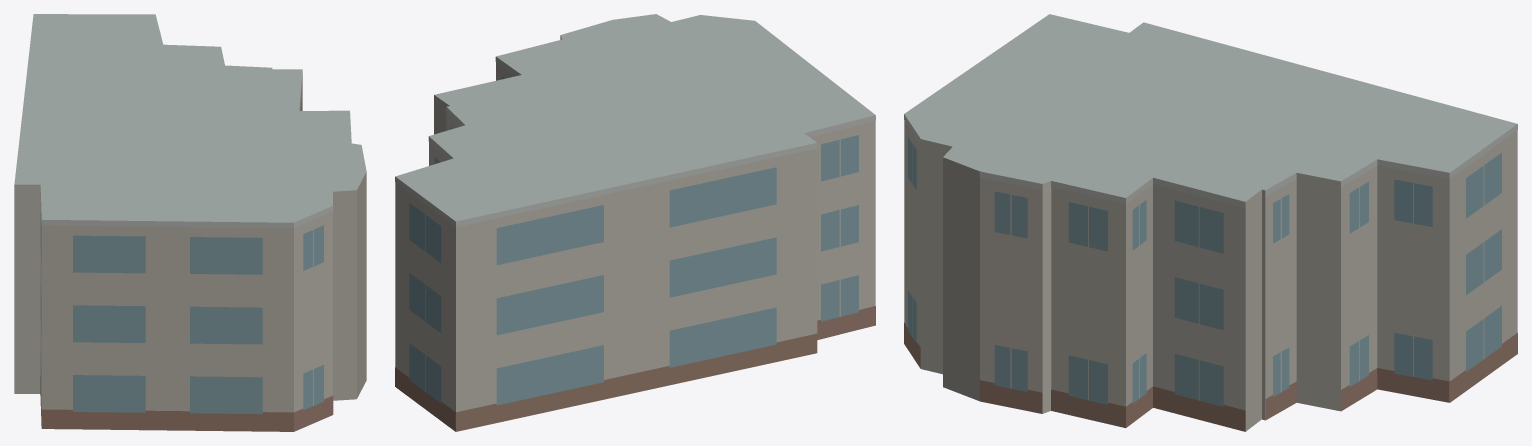
Rendered from survey-upis-33042838.glb.
The picture shows the model from 3 angles, left to right: view 1: azimuth 30°, elevation 25°; view 2: azimuth 150°, elevation 25°; view 3: azimuth 270°, elevation 25°; orthographic projection. The views are drawn at different scales.
Visible parts, largest first — view 1: survey-upis-33042838.tmp; view 2: survey-upis-33042838.tmp; view 3: survey-upis-33042838.tmp.
Boxes of the visible parts, <box> form: survey-upis-33042838.tmp: <box>14,14,366,431</box>; survey-upis-33042838.tmp: <box>395,14,875,431</box>; survey-upis-33042838.tmp: <box>904,14,1517,431</box>.
Size of the model in its own units: 15.95 by 9.1 by 22.01.
